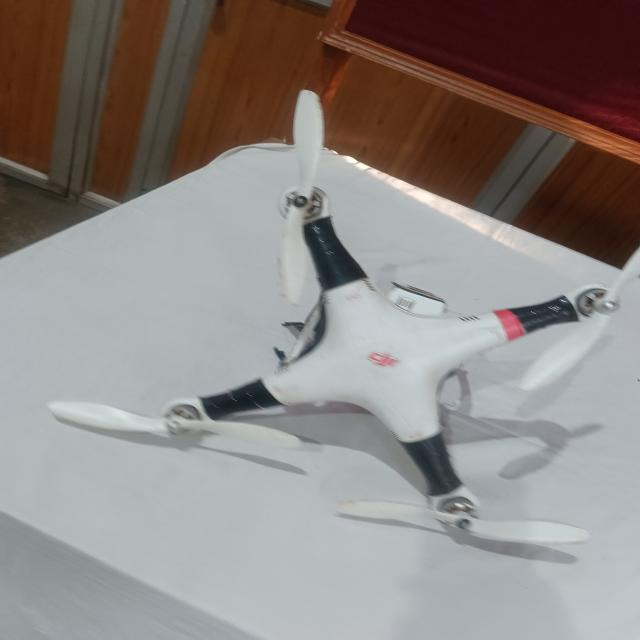drone: (31, 84, 640, 574)
